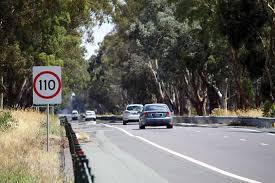Speed_limit_110km: (33, 71, 61, 99)
